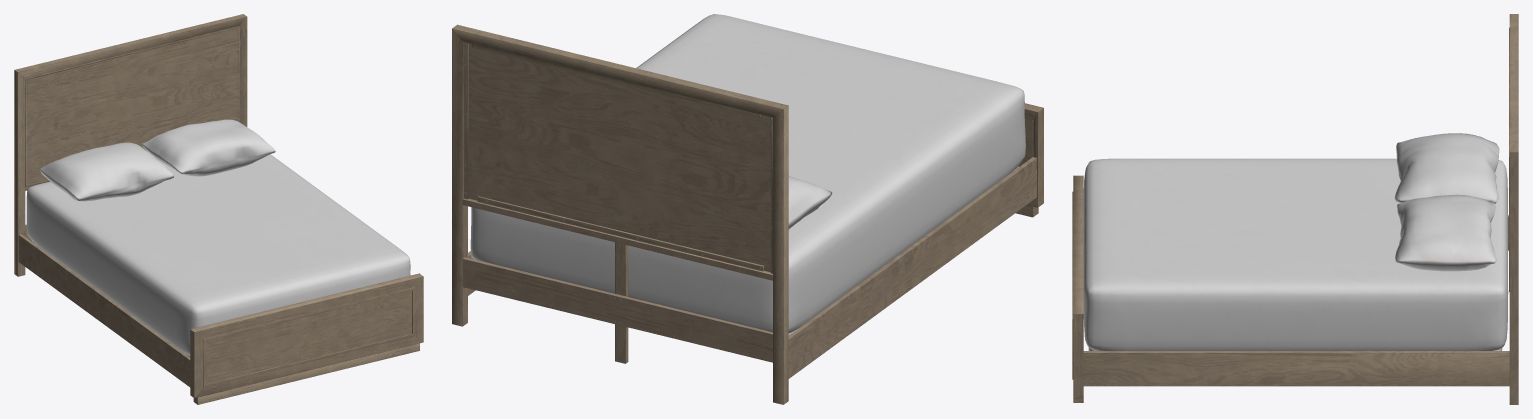
Rendered from bed_abo_B07B4VY11Z.glb.
3 renders of one model, left to right at view 1: azimuth 30°, elevation 25°; view 2: azimuth 150°, elevation 25°; view 3: azimuth 270°, elevation 25°, orthographic. The views are drawn at different scales.
Visible parts, largest first — view 1: RootNode; view 2: RootNode; view 3: RootNode.
Part boxes in pixels (<box>): RootNode: <box>14,14,423,404</box>; RootNode: <box>452,14,1043,404</box>; RootNode: <box>1072,14,1518,404</box>.
Size of the model in its own units: 1.61 by 1.37 by 2.19.
1 material, 1 textured.
